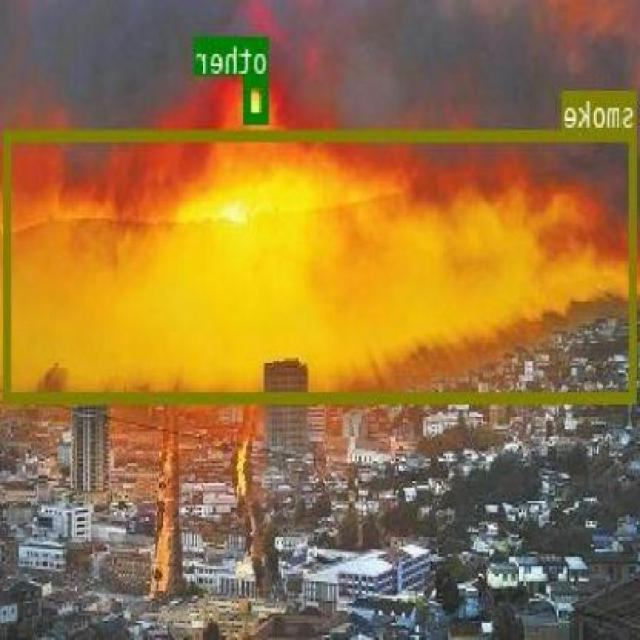Fire: (0, 125, 640, 412)
Smoke: (0, 0, 640, 227)
